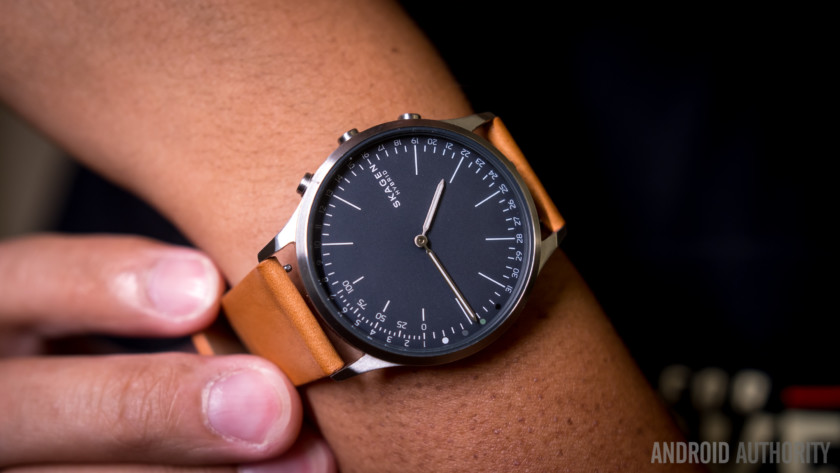clock: (309, 126, 536, 355)
